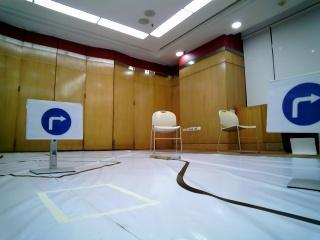right: (266, 80, 320, 131), (29, 98, 84, 141)
